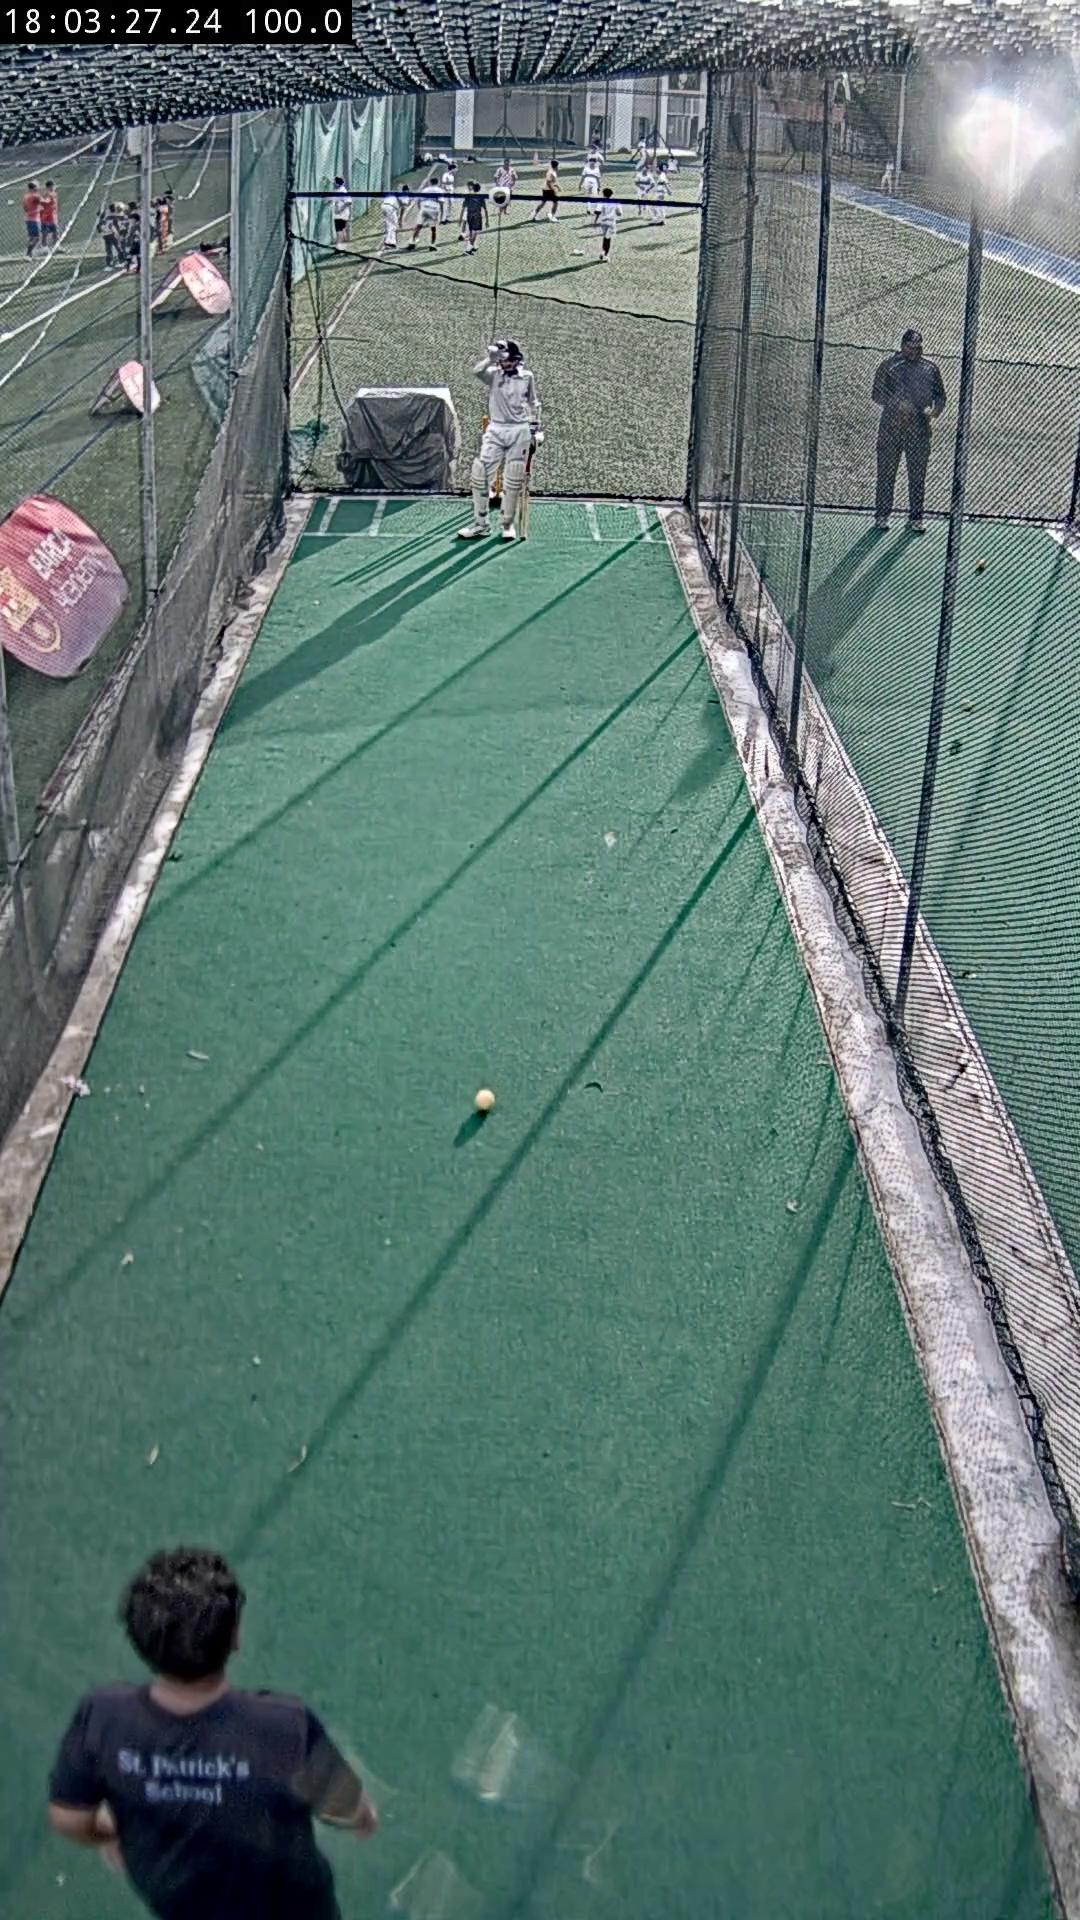ball: (472, 1088, 495, 1117)
bat: (517, 454, 530, 541)
gloves: (484, 342, 506, 364), (529, 423, 543, 446)
helmet: (502, 342, 525, 364)
pads: (498, 454, 525, 529), (472, 458, 492, 525)
